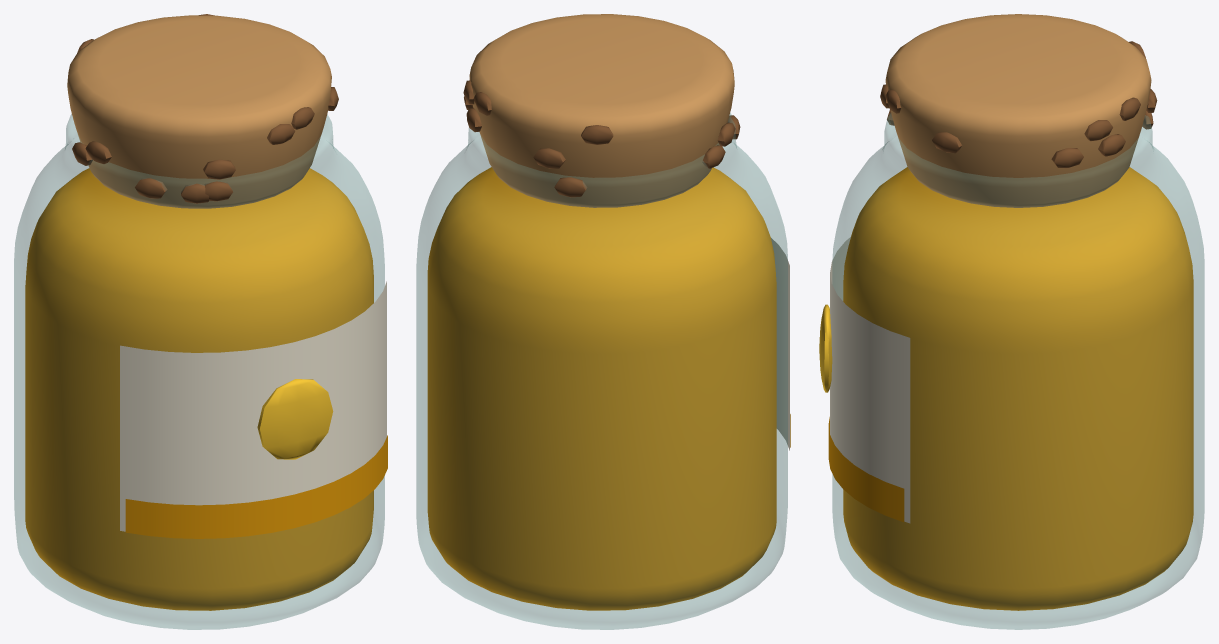
Rendered from spice_jar_b.glb.
3 views of the same model, side by side, from view 1: azimuth 30°, elevation 25°; view 2: azimuth 150°, elevation 25°; view 3: azimuth 270°, elevation 25° (orthographic).
Visible parts, largest first — view 1: SpiceJarB; view 2: SpiceJarB; view 3: SpiceJarB.
Part boxes in pixels (bbox=[...]): SpiceJarB: bbox=[14, 14, 387, 629]; SpiceJarB: bbox=[416, 14, 790, 629]; SpiceJarB: bbox=[819, 14, 1204, 629].
Size of the model in its own units: 2 by 3 by 2.07.
